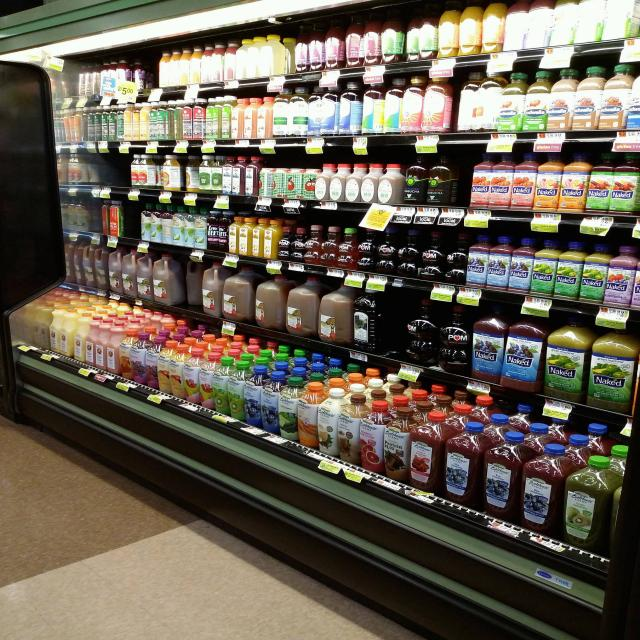empty: (372, 287, 422, 353), (444, 145, 479, 216), (99, 145, 129, 200), (120, 203, 149, 247)
